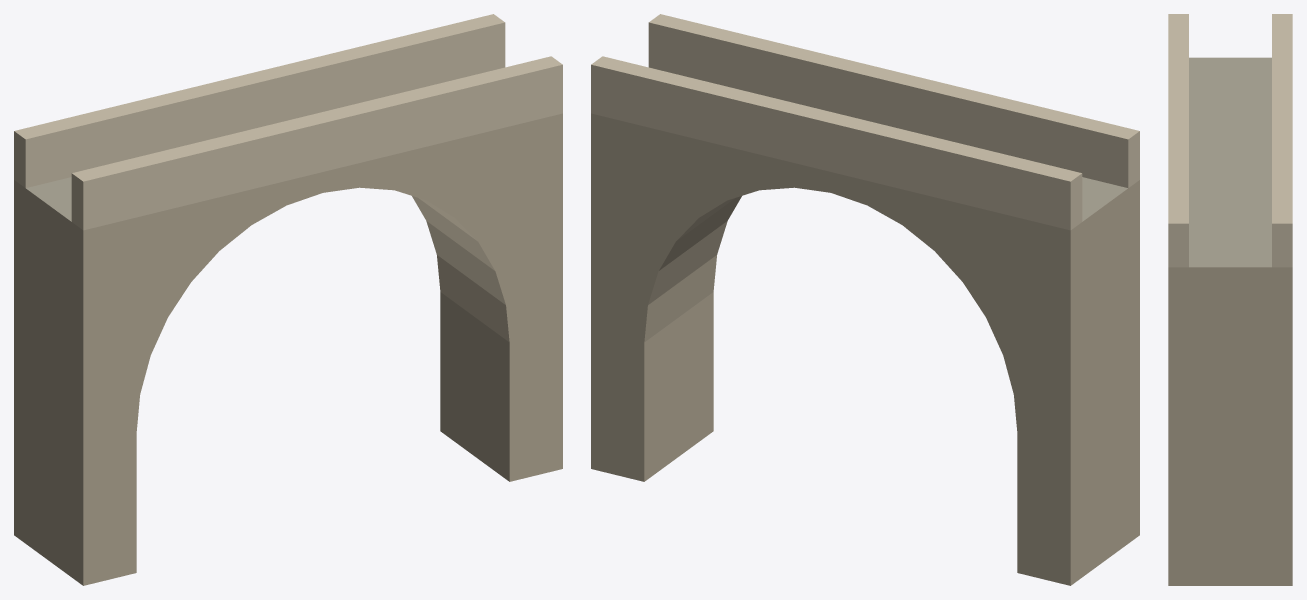
The picture shows the model from 3 angles, left to right: view 1: azimuth 30°, elevation 25°; view 2: azimuth 150°, elevation 25°; view 3: azimuth 270°, elevation 25°; orthographic projection. The views are drawn at different scales.
Parts seen in each view (by area): view 1: WholeArchPiersSpandrelsAndChannelFloor, WholeChannelSidewall_-1, WholeChannelSidewall_1; view 2: WholeArchPiersSpandrelsAndChannelFloor, WholeChannelSidewall_1, WholeChannelSidewall_-1; view 3: WholeArchPiersSpandrelsAndChannelFloor, WholeChannelSidewall_-1, WholeChannelSidewall_1.
Part boxes in pixels (x1,y1,x2,y2): WholeArchPiersSpandrelsAndChannelFloor: (14, 113, 562, 585); WholeChannelSidewall_-1: (71, 56, 562, 230); WholeChannelSidewall_1: (14, 14, 505, 187); WholeArchPiersSpandrelsAndChannelFloor: (591, 113, 1139, 585); WholeChannelSidewall_1: (591, 56, 1082, 230); WholeChannelSidewall_-1: (648, 14, 1139, 187); WholeArchPiersSpandrelsAndChannelFloor: (1168, 57, 1292, 585); WholeChannelSidewall_-1: (1168, 14, 1188, 267); WholeChannelSidewall_1: (1272, 14, 1292, 267).
Size of the model in its own units: 3.6 by 2.9 by 0.9.
